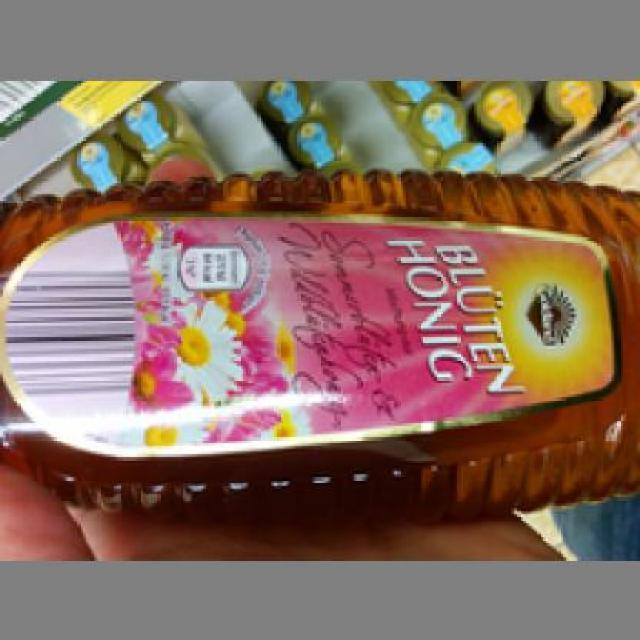Honey: (0, 169, 637, 520)
